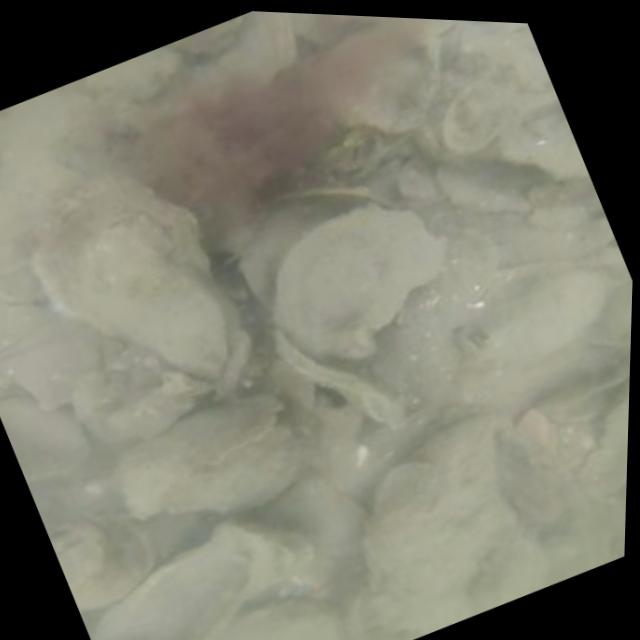Oyster-Closed: (268, 336, 407, 430), (535, 356, 630, 420), (260, 179, 407, 212), (314, 126, 390, 174), (161, 16, 244, 55)
Oyster-Indeterminate: (370, 419, 518, 635), (29, 165, 214, 335), (272, 199, 440, 361), (78, 207, 228, 379), (96, 525, 294, 640), (293, 17, 445, 137), (122, 422, 302, 523), (468, 264, 605, 368), (119, 396, 282, 472), (74, 368, 198, 440), (491, 95, 588, 181), (262, 479, 365, 552), (431, 79, 516, 156), (573, 396, 629, 497), (212, 598, 343, 640), (431, 168, 537, 215), (85, 50, 179, 102), (424, 415, 495, 467), (376, 462, 434, 520)
Oyster-Open: (44, 511, 157, 613)
